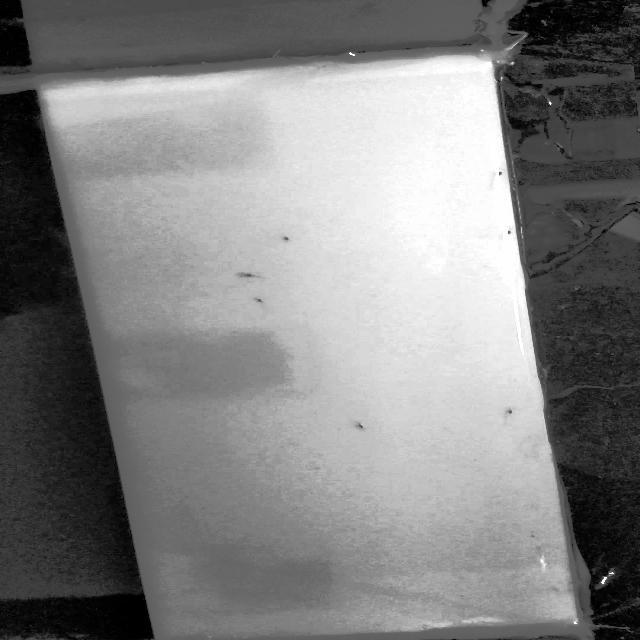shrimp: (277, 234, 303, 244), (234, 271, 266, 279), (501, 402, 518, 417), (354, 422, 372, 430), (253, 296, 266, 304)
